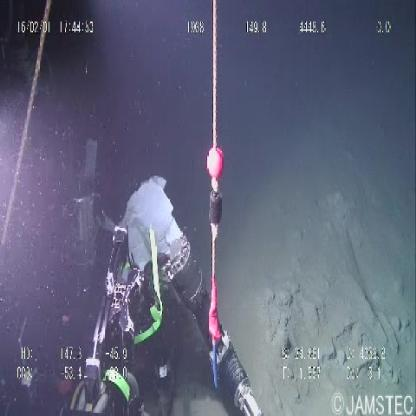Rov: (82, 217, 264, 416)
Rác: (117, 171, 179, 271)
